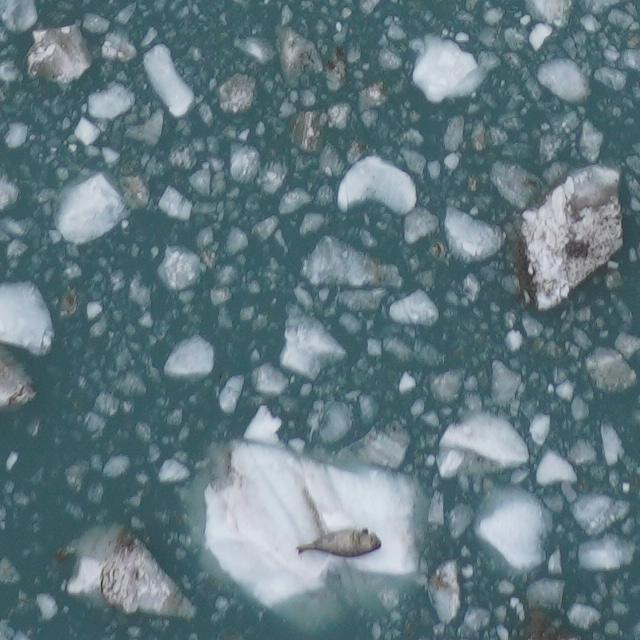seal: (292, 523, 386, 562)
